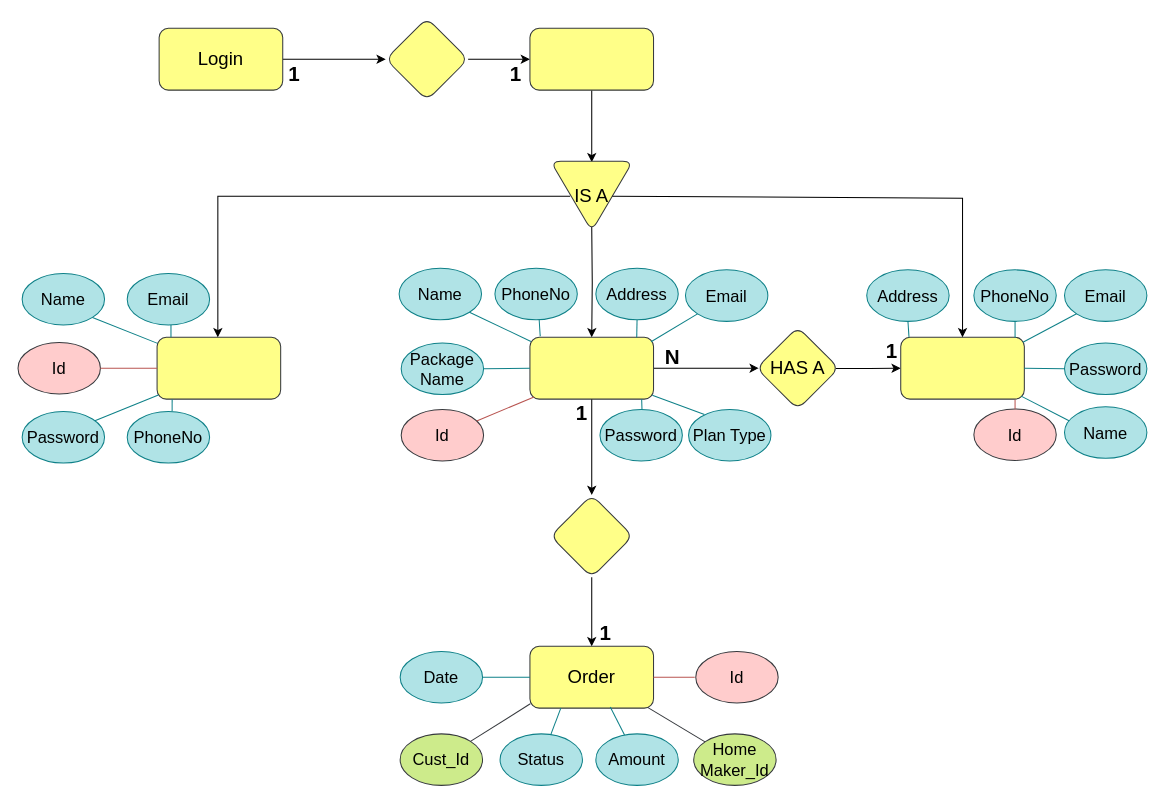
The diagram is 1165 pixels wide and 803 high, and some of its shapes have lost their labels. The centre of each missing label's shape, as x and y in pixels:
Admin: [218,367]
Customer: [591,367]
HAS: [591,535]
Homemaker: [962,367]
IS FOR: [426,58]
User: [591,58]
